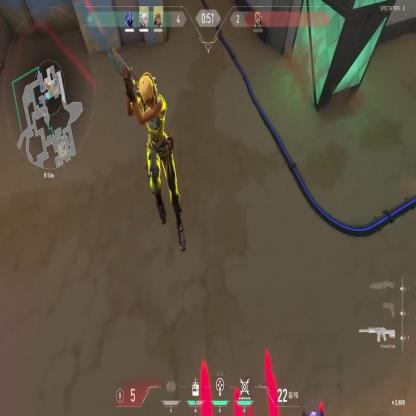enemy: (124, 67, 186, 251)
enemy_head: (139, 73, 157, 111)
